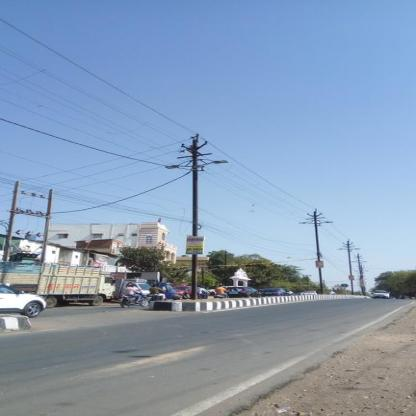Electrical Pole: (158, 131, 236, 301)
